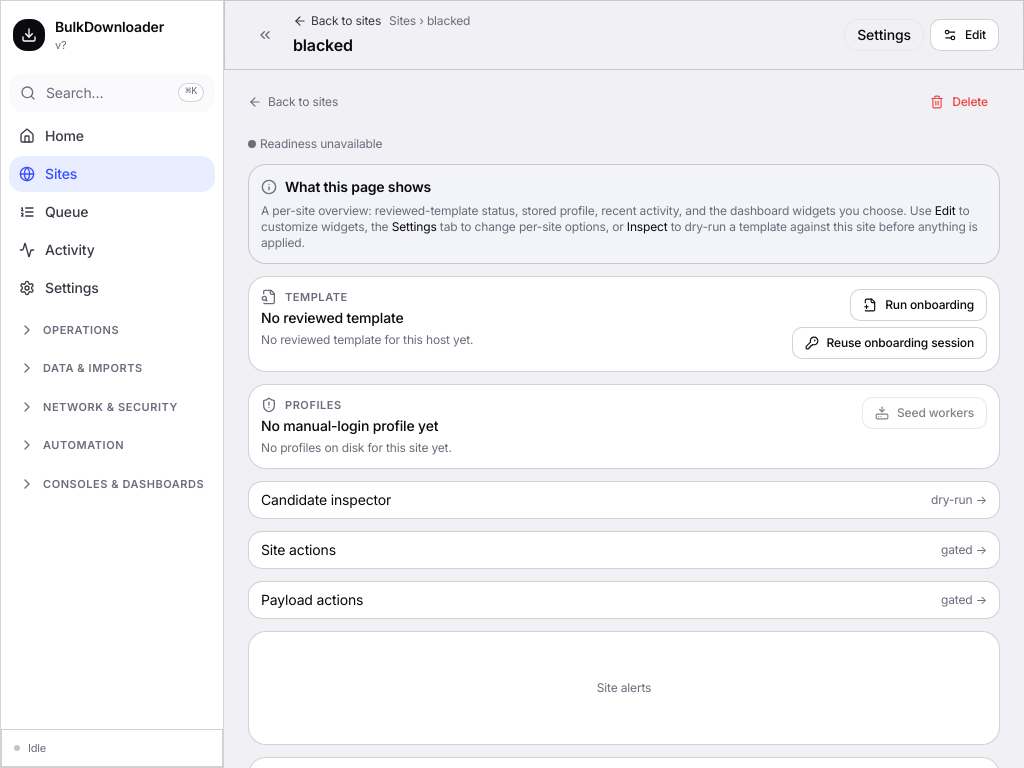
Scenario: M225 SiteDetail KPI tiles (Home's buildKpiTiles) › renders a selected catalog KPI with its value and an edit-mode drag handle
Step 1. Click the button with aria-label "Customize dashboard" → (964, 35), box [930,19,999,51]
(page scrolled)
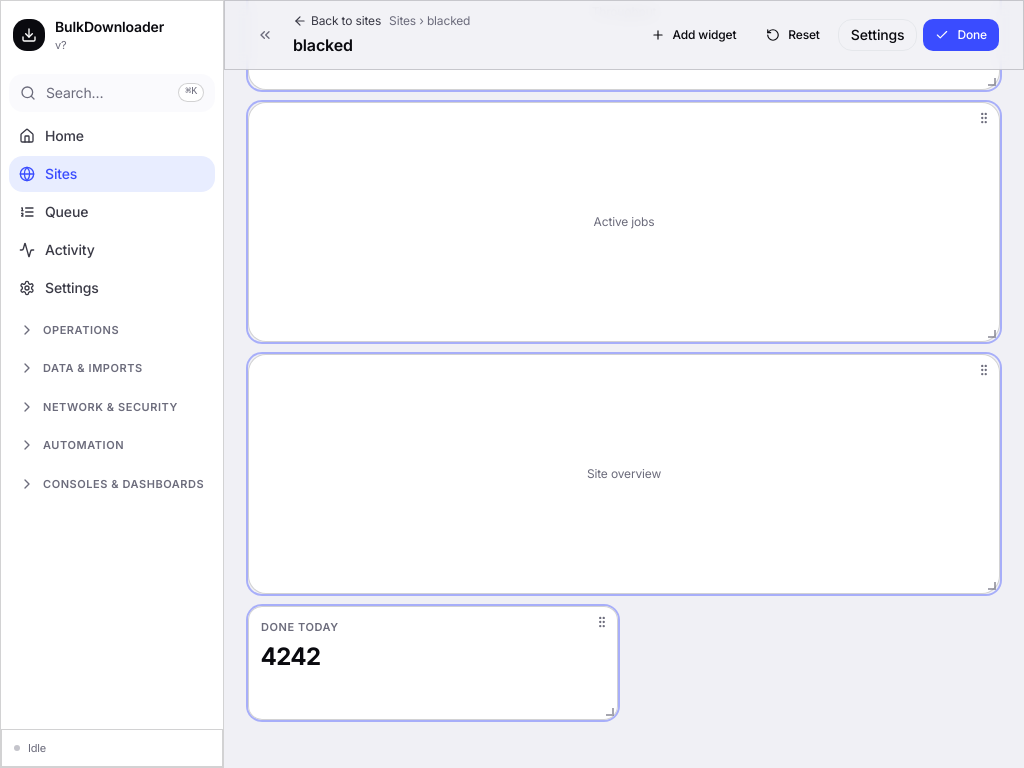
Expected: the 3rd element with class "dashboard-tile-handle" is shown, [590,610,614,634]
